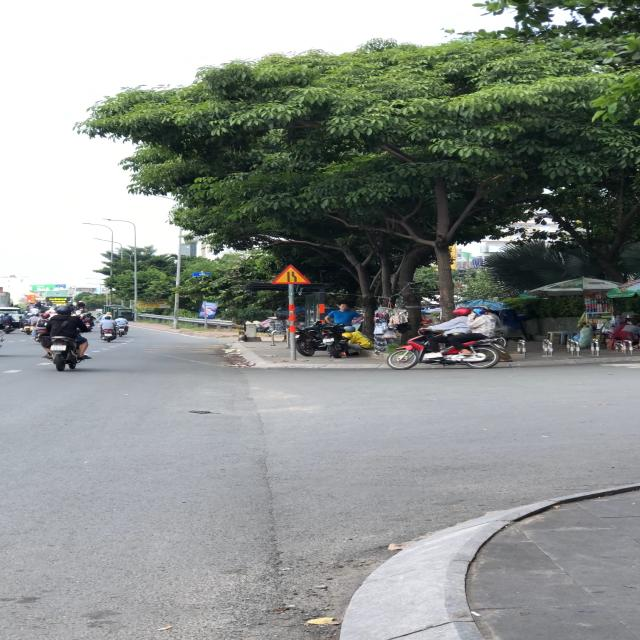Bien bao duong bi thu hep: (271, 264, 316, 285)
